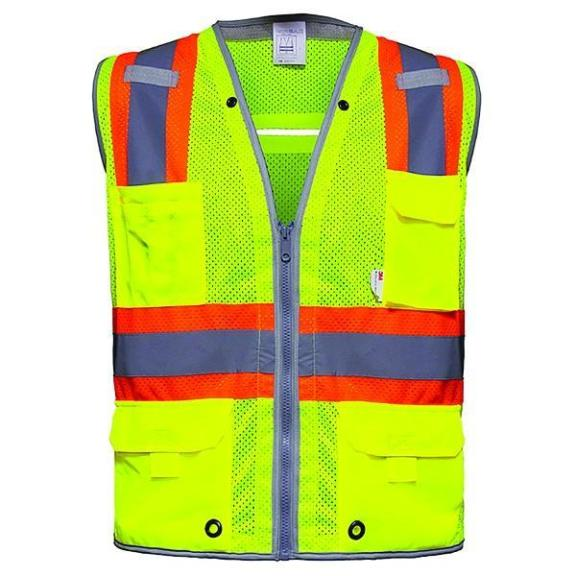safety_vest: (91, 18, 482, 558)
